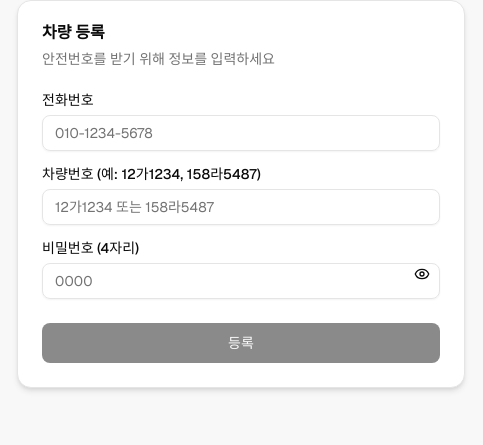
RegisterForm Component - Design-TAG-006 › should display error message on submission failure
The image size is (483, 445).
Step 1. Type "01012345678" into the field labelled "전화번호" → (241, 133), box [42, 115, 440, 151]
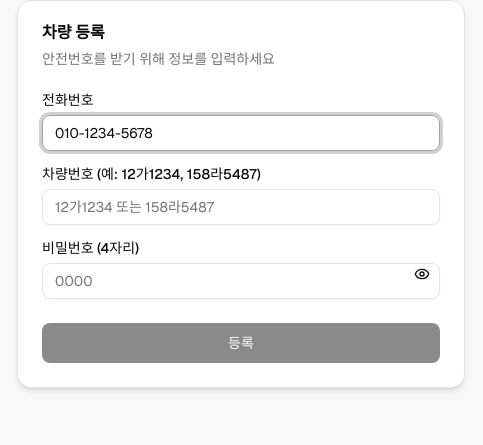
Step 2. Type "12가1234" into the field labelled "차량번호 (예: 12가1234, 158라5487)" → (241, 207), box [42, 189, 440, 225]
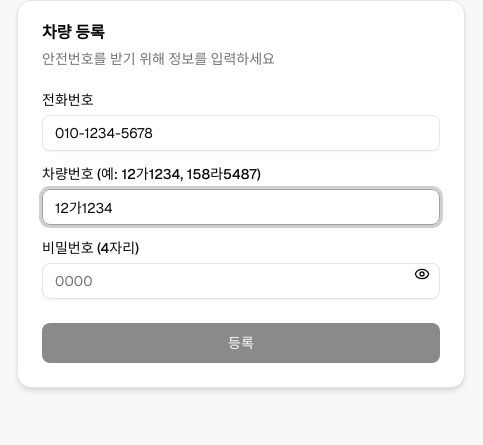
Step 3. Type "1234" into the password field labelled "비밀번호 (4자리)" → (241, 281), box [42, 263, 440, 299]
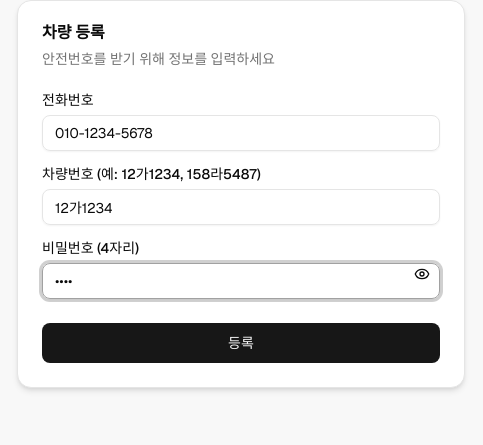
Step 4. Click the button "등록" → (241, 343), box [42, 323, 440, 363]
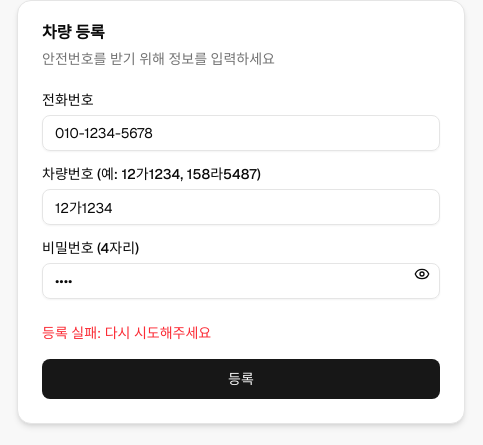
Expected: the text "등록 실패: 다시 시도해주세요" is shown, [42, 324, 211, 342]
